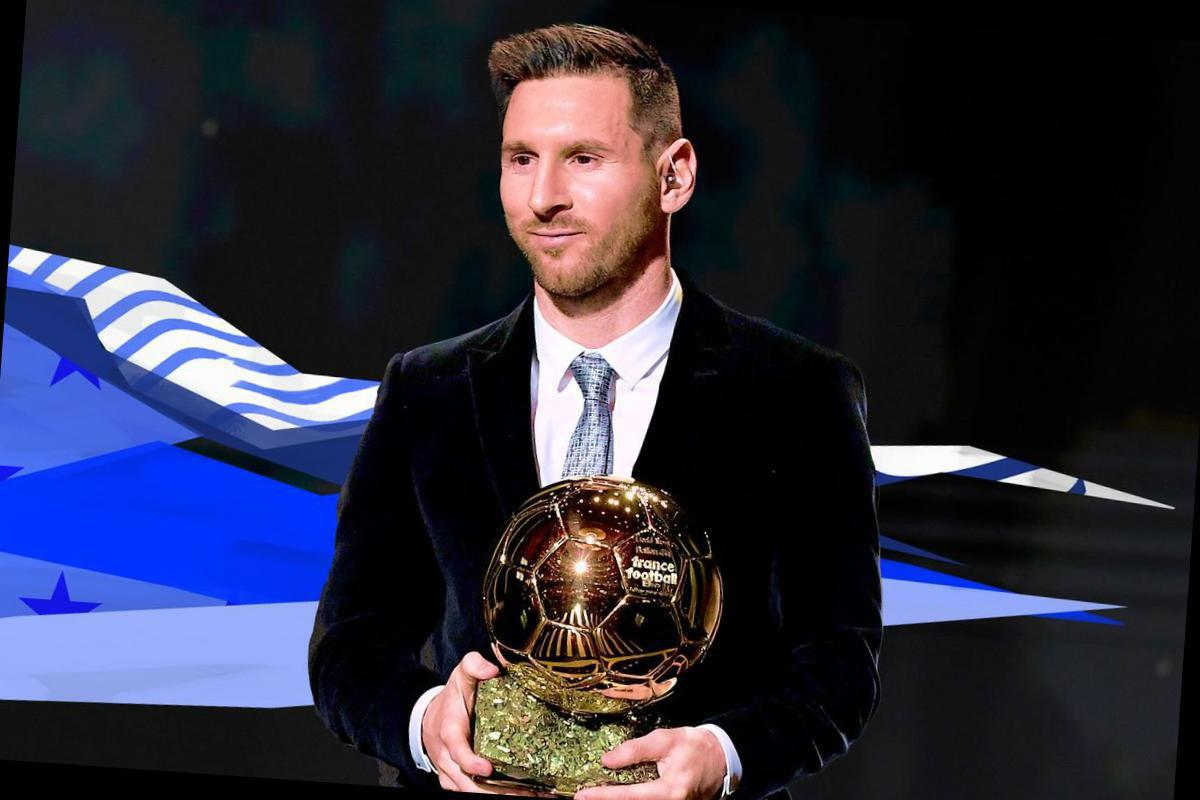Sober: (497, 90, 648, 281)
